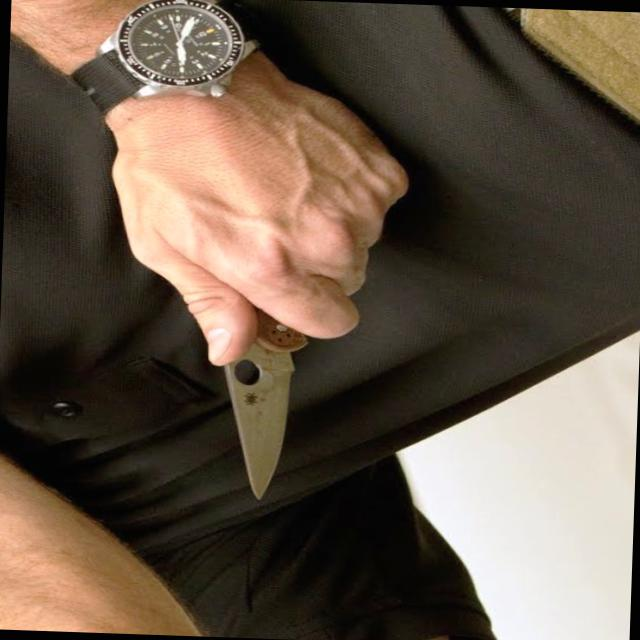knife: (192, 227, 378, 515)
